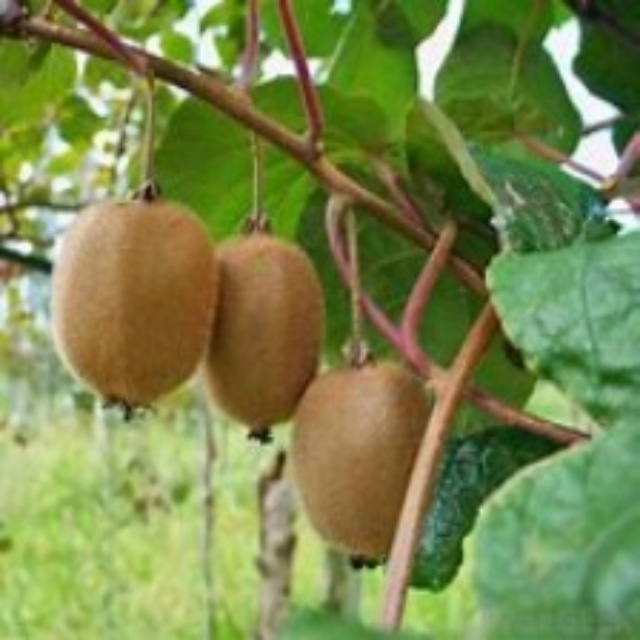kiwi: (62, 197, 221, 423), (287, 354, 438, 568), (202, 228, 325, 444)
